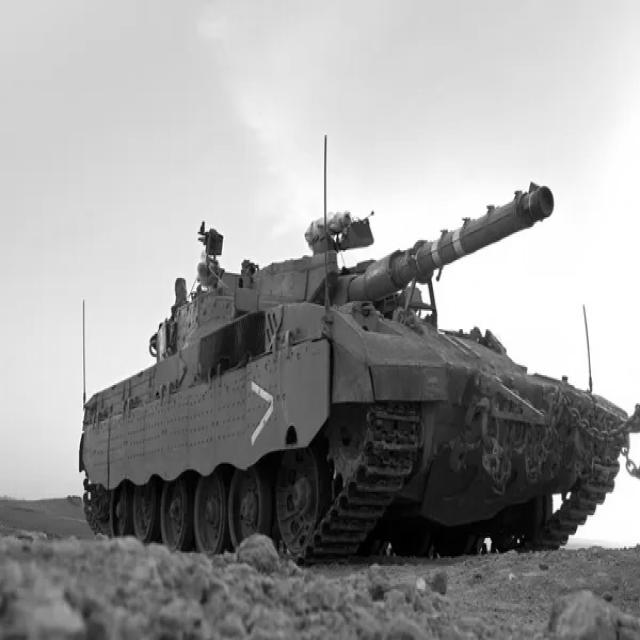Tank: (76, 179, 633, 572)
